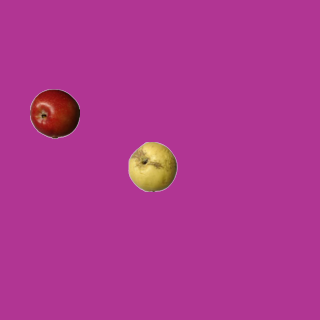Apple Braeburn: (29, 88, 79, 138)
Apple Golden 1: (127, 141, 177, 191)
